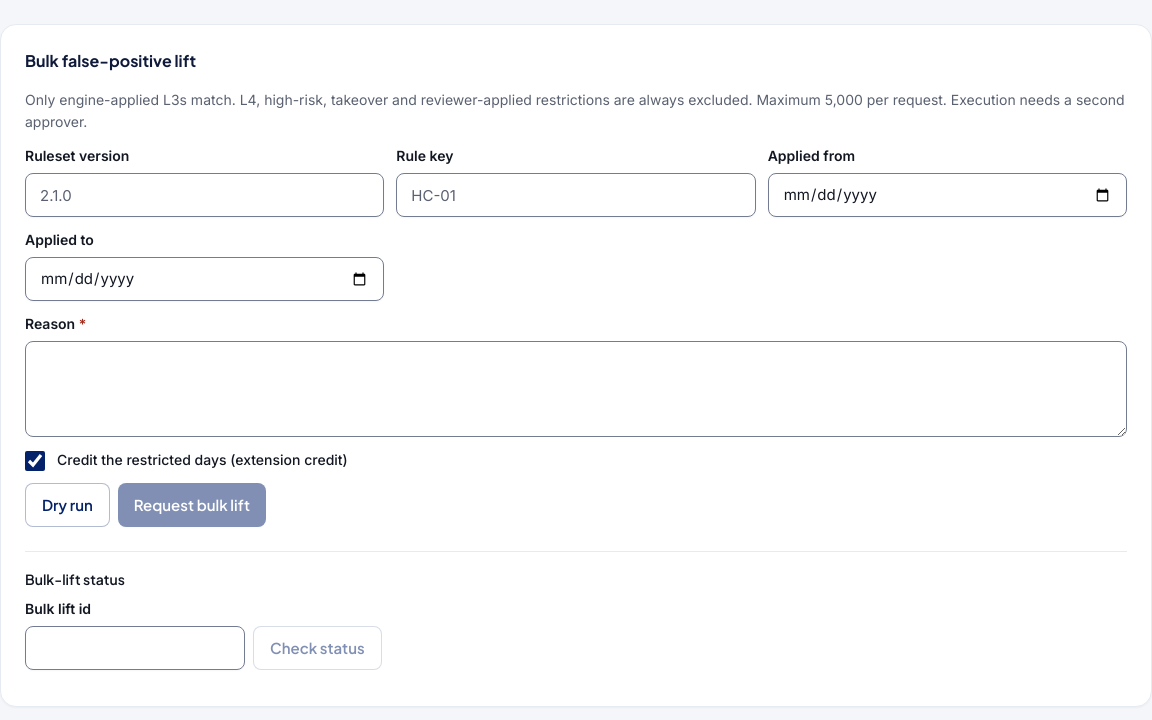
it: Incidents and bulk-lift status (ADM-11) › shows the bulk-lift status after the dual-approval request
Click the field labelled "Rule key".
click(576, 195)  # box [396,173,756,217]
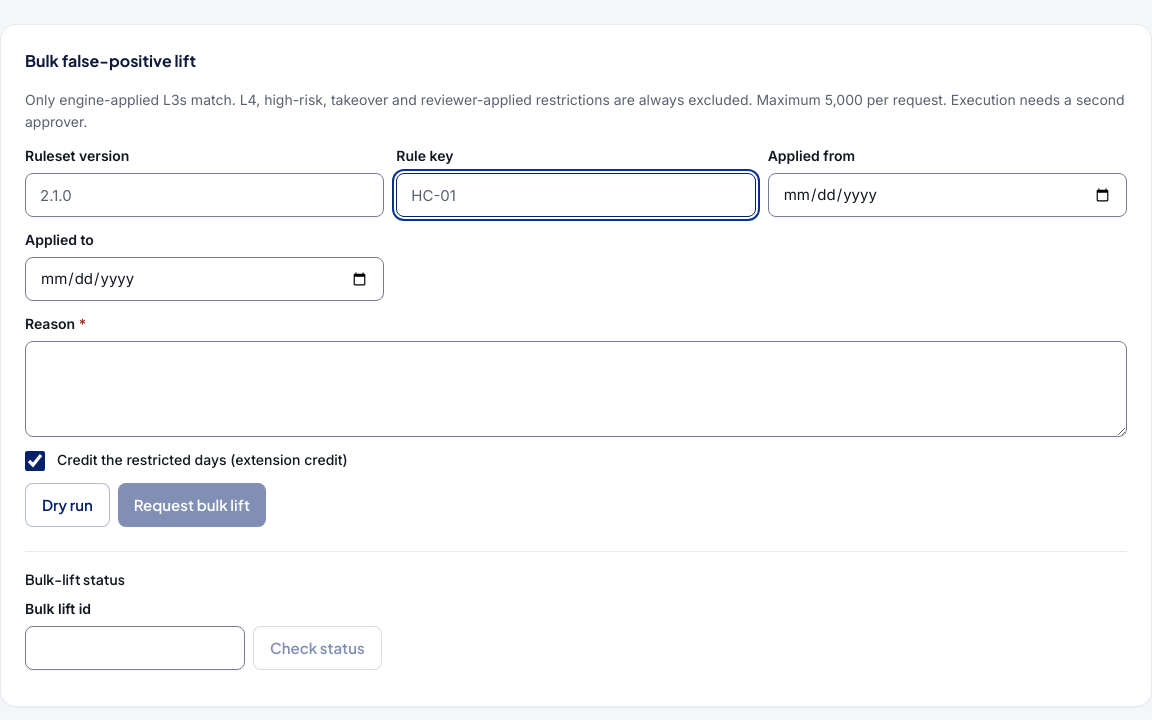
Type keys "HC-01"
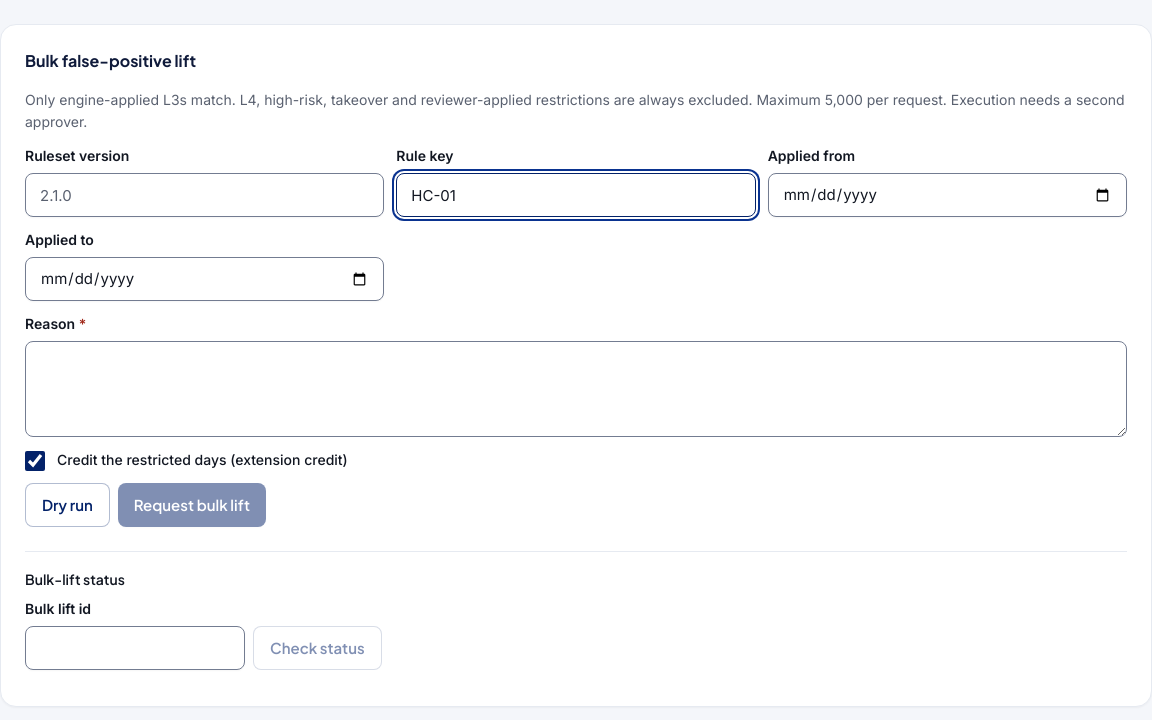
Click the text box labelled "Reason *".
click(576, 389)  # box [25,341,1127,437]
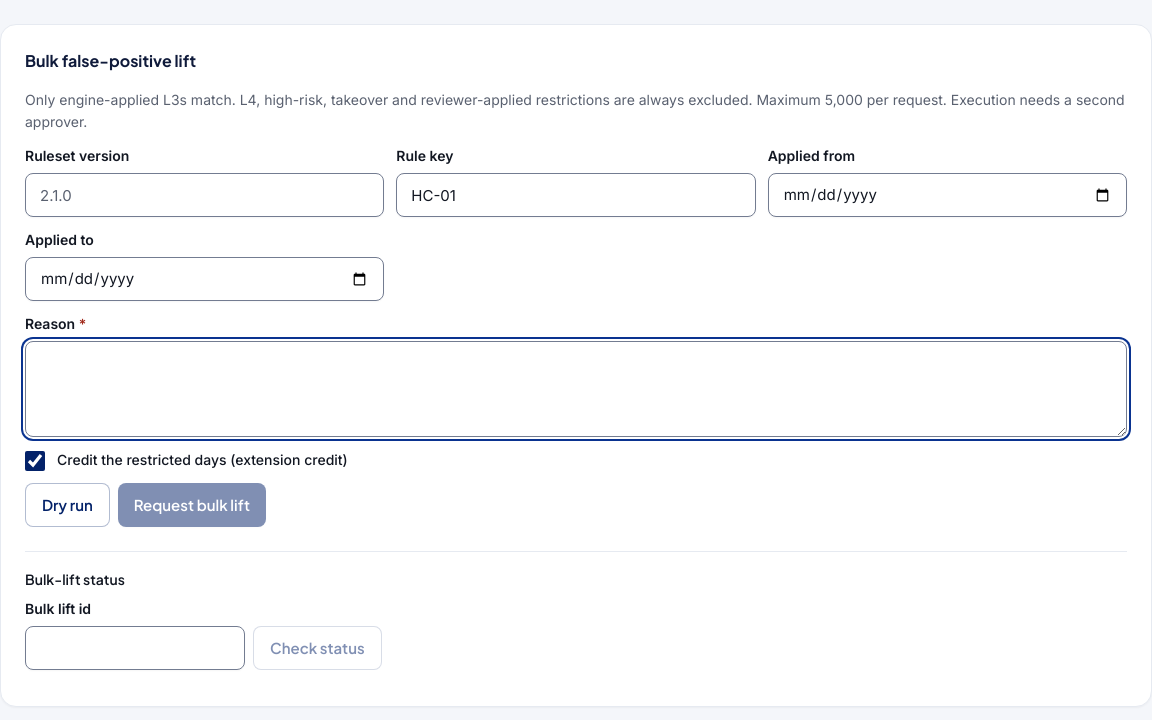
Type keys "HC-01 false-positive surge on 2 Nov"
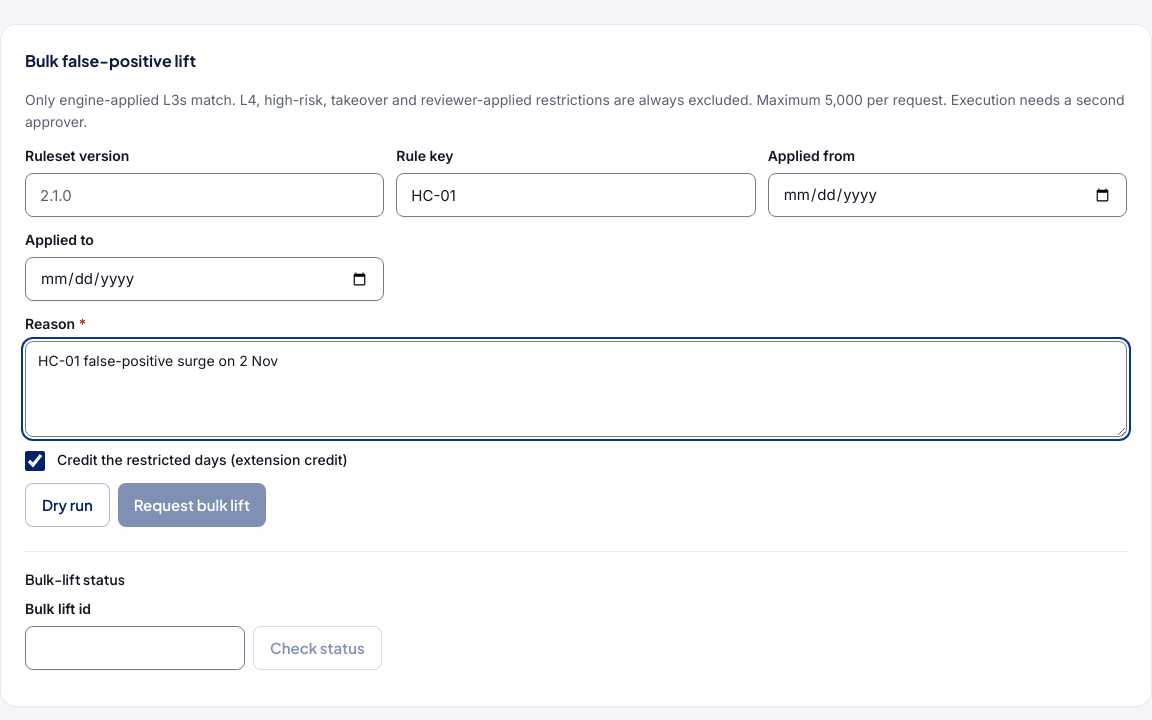
Click the button "Dry run".
click(67, 505)  # box [25,483,110,527]
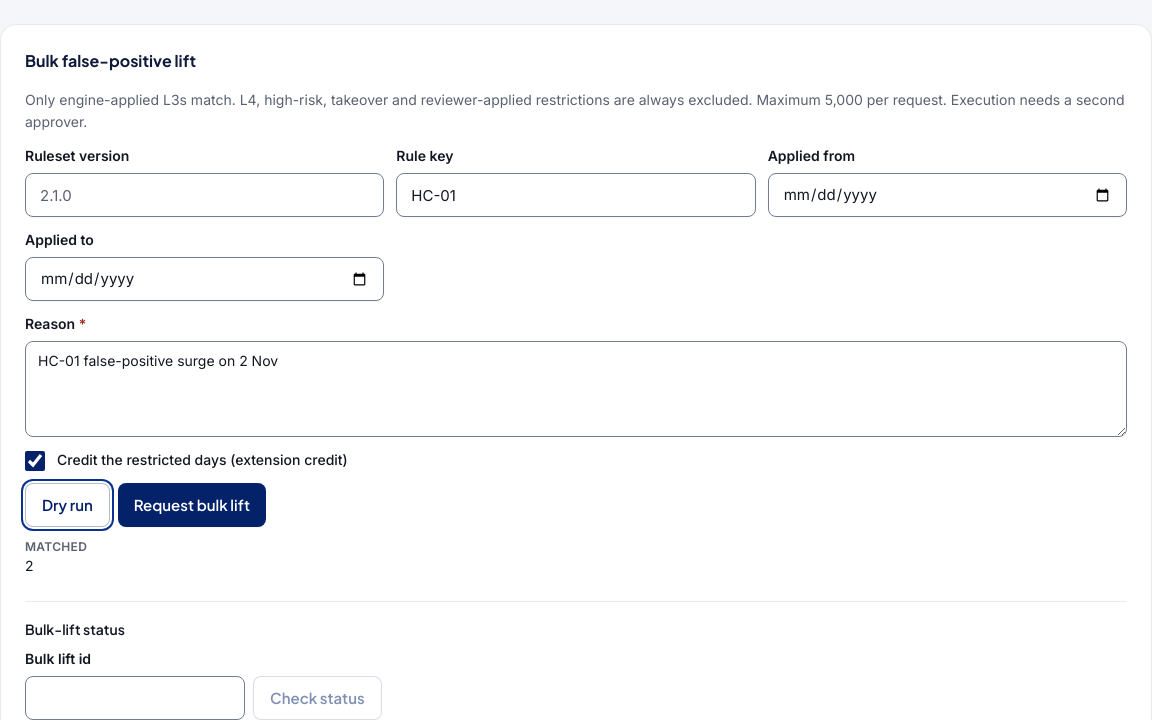
Click the button "Request bulk lift".
click(192, 505)  # box [118,483,266,527]
(page scrolled)
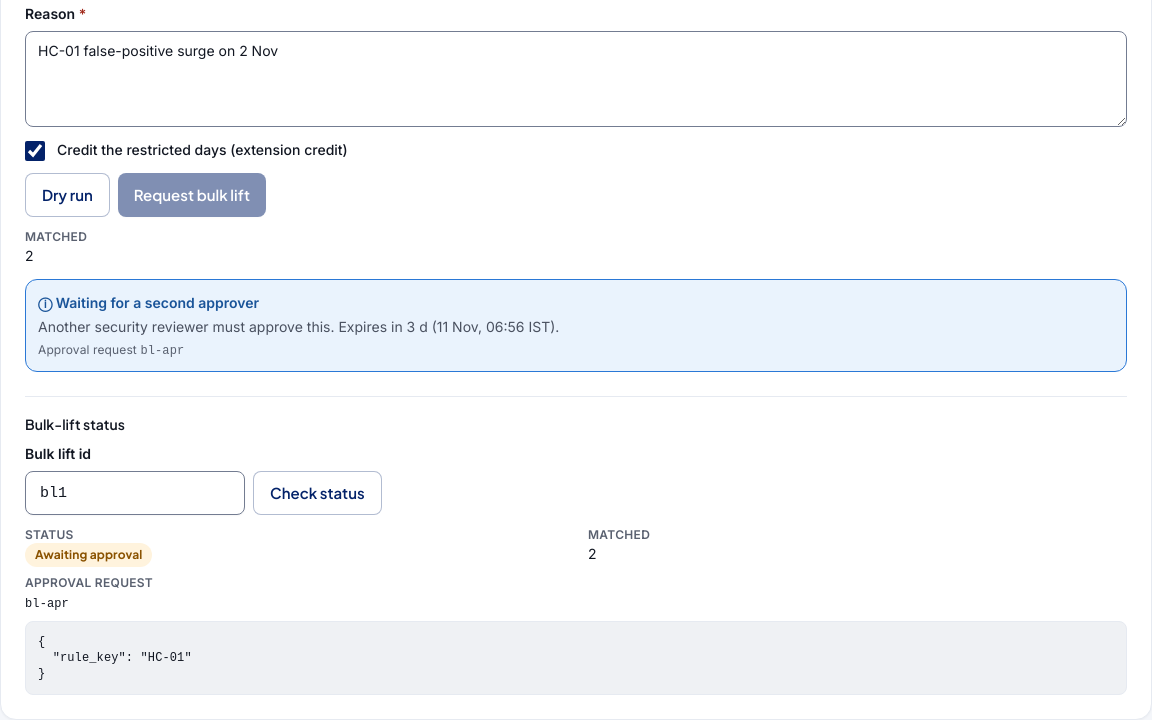
expect the text "Awaiting approval" is shown: met, box [25,543,152,567]
expect the field labelled "Bulk lift id" holds "bl1": met, box [25,471,245,515]
